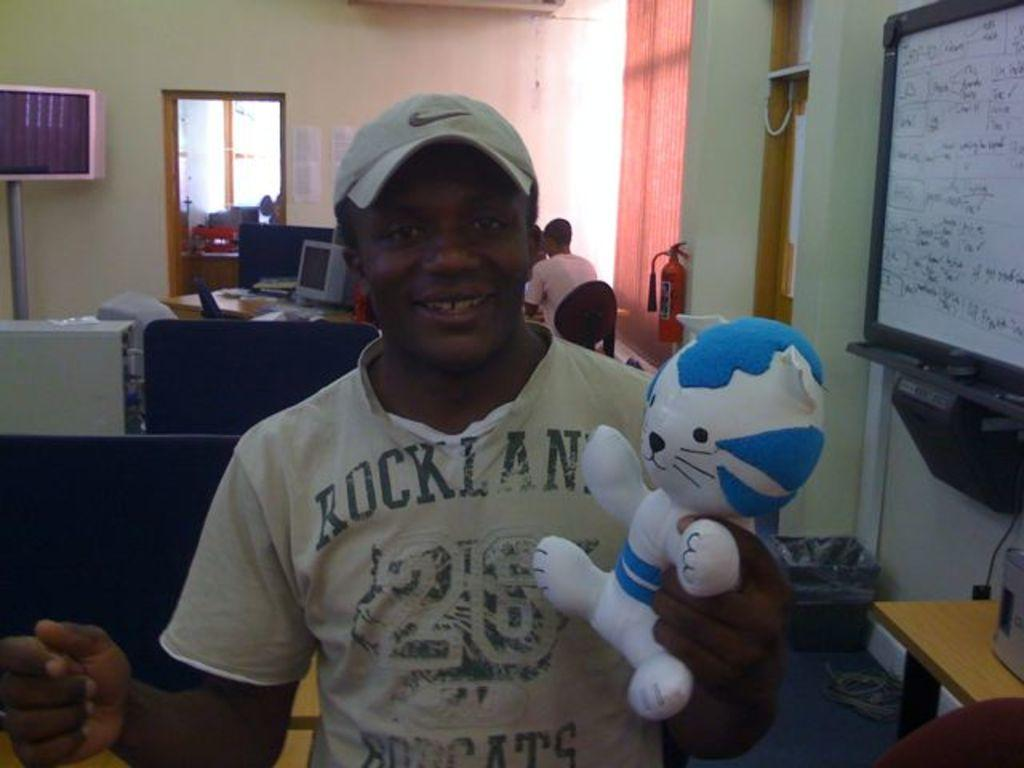Laptop: (191, 275, 252, 319)
Luggage-and-bags: (767, 532, 881, 653)
